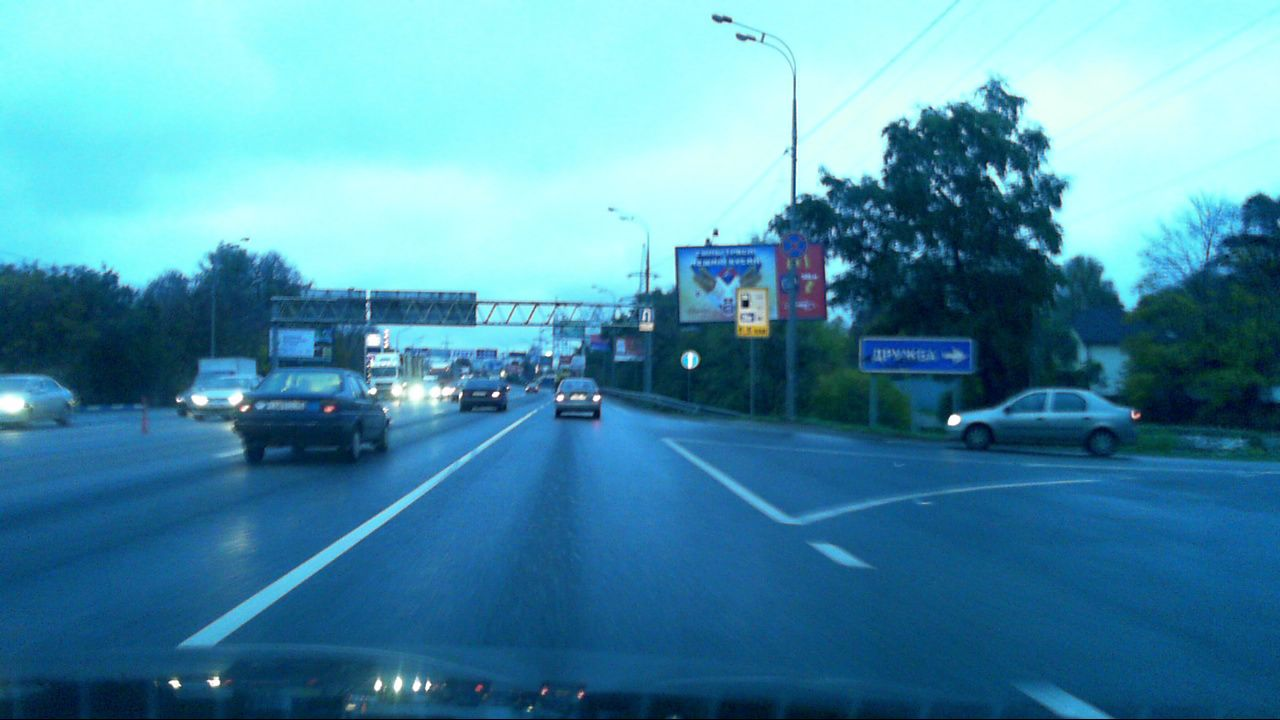No Parking: (781, 233, 806, 258)
U-turn: (639, 307, 654, 322)
